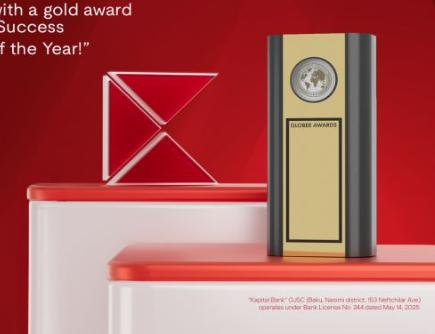Kapital Bank: (98, 66, 221, 188)
